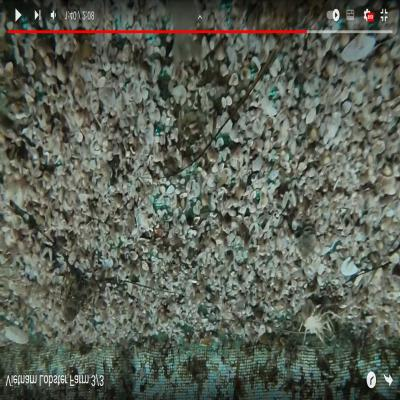lobster: (59, 268, 89, 322)
